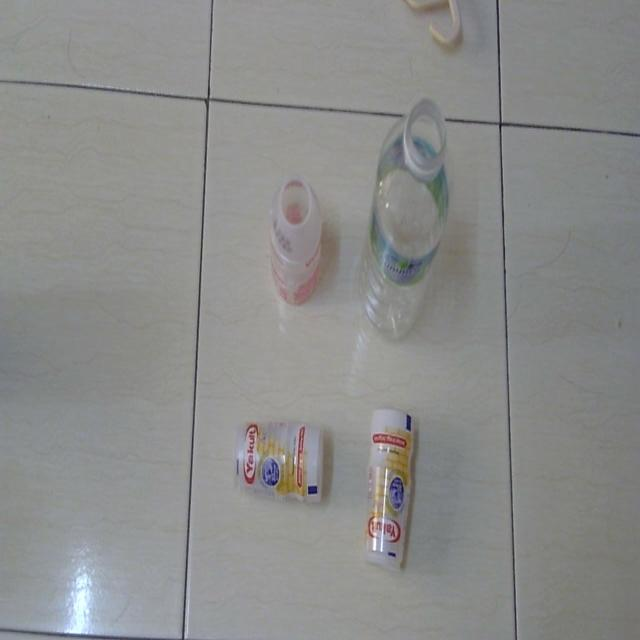plastic_laydown_0rotation: (231, 412, 325, 508)
plastic_laydown_90rotation: (362, 401, 418, 575)
plastic_standrotation: (362, 91, 452, 341), (267, 171, 332, 303)
